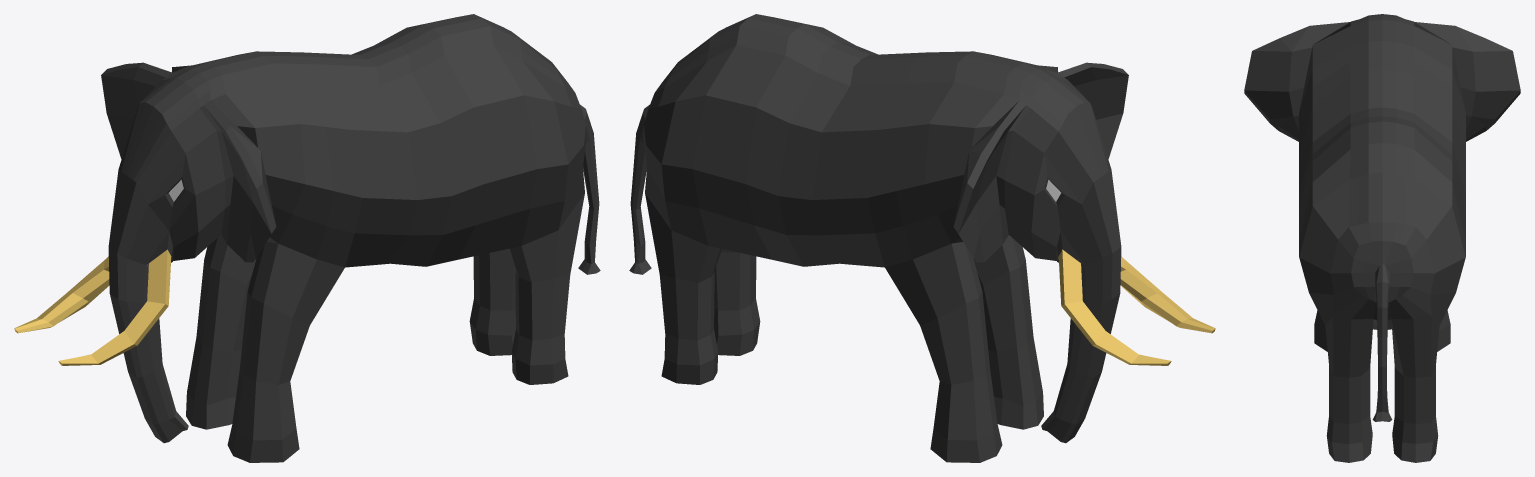
The model's file is ElephantModel.fbx.
3 views of the same model, side by side, from view 1: azimuth 30°, elevation 25°; view 2: azimuth 150°, elevation 25°; view 3: azimuth 270°, elevation 25° (orthographic). The views are drawn at different scales.
Parts seen in each view (by area): view 1: Cube; view 2: Cube; view 3: Cube.
Boxes of the visible parts, x1,y1,x2,y2 form: Cube: [14, 14, 600, 462]; Cube: [629, 14, 1215, 462]; Cube: [1244, 14, 1520, 462].
Size of the model in its own units: 1459 by 926 by 742.
